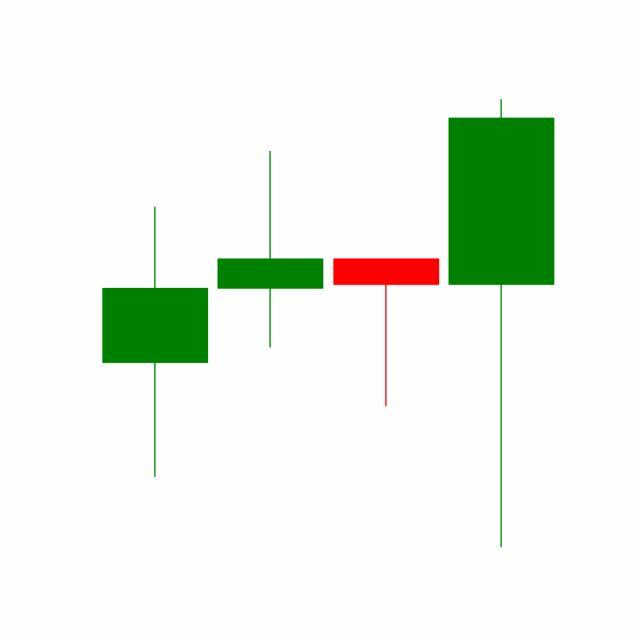Dragonfly Doji: (329, 257, 445, 409)
